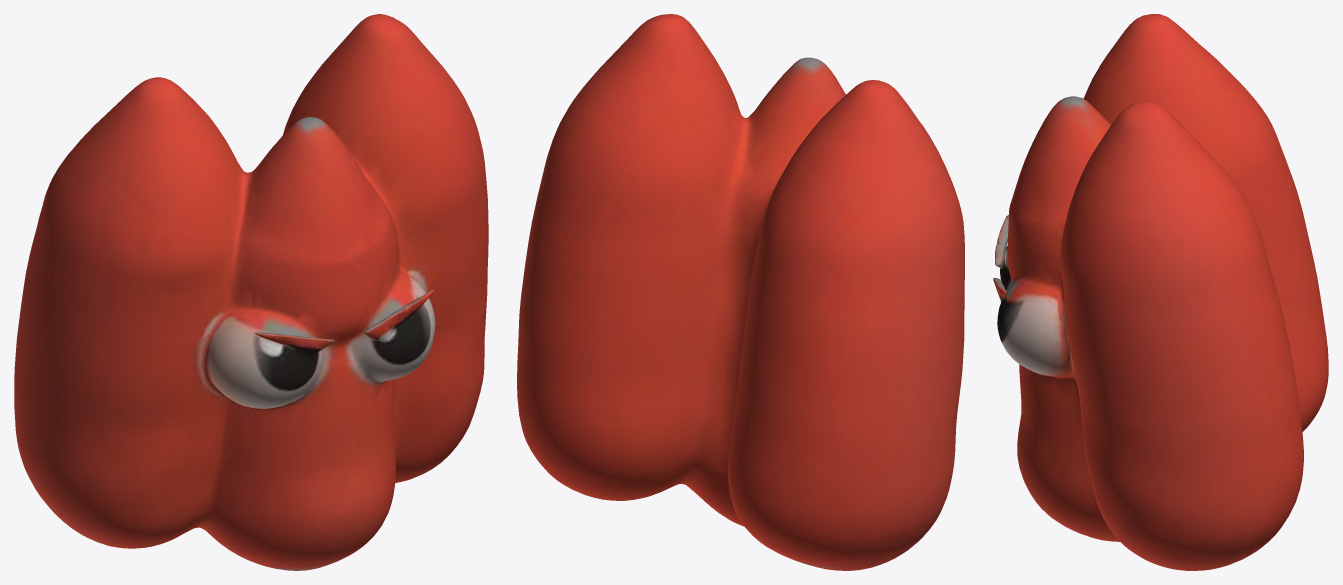
Rendered from redflower.glb.
The picture shows the model from 3 angles, left to right: view 1: azimuth 30°, elevation 25°; view 2: azimuth 150°, elevation 25°; view 3: azimuth 270°, elevation 25°; orthographic projection. The views are drawn at different scales.
Parts seen in each view (by area): view 1: tripo_node_7b2eb971-ea09-41ba-a33f-123131158505; view 2: tripo_node_7b2eb971-ea09-41ba-a33f-123131158505; view 3: tripo_node_7b2eb971-ea09-41ba-a33f-123131158505.
Part boxes in pixels (left/top/right/bottom): tripo_node_7b2eb971-ea09-41ba-a33f-123131158505: left=14, top=14, right=488, bottom=570; tripo_node_7b2eb971-ea09-41ba-a33f-123131158505: left=517, top=14, right=964, bottom=570; tripo_node_7b2eb971-ea09-41ba-a33f-123131158505: left=993, top=14, right=1328, bottom=570.
Bounding box in the file's own units: 0.8776 × 0.9996 × 0.6386.
Materials: 1 (1 with a texture image).
